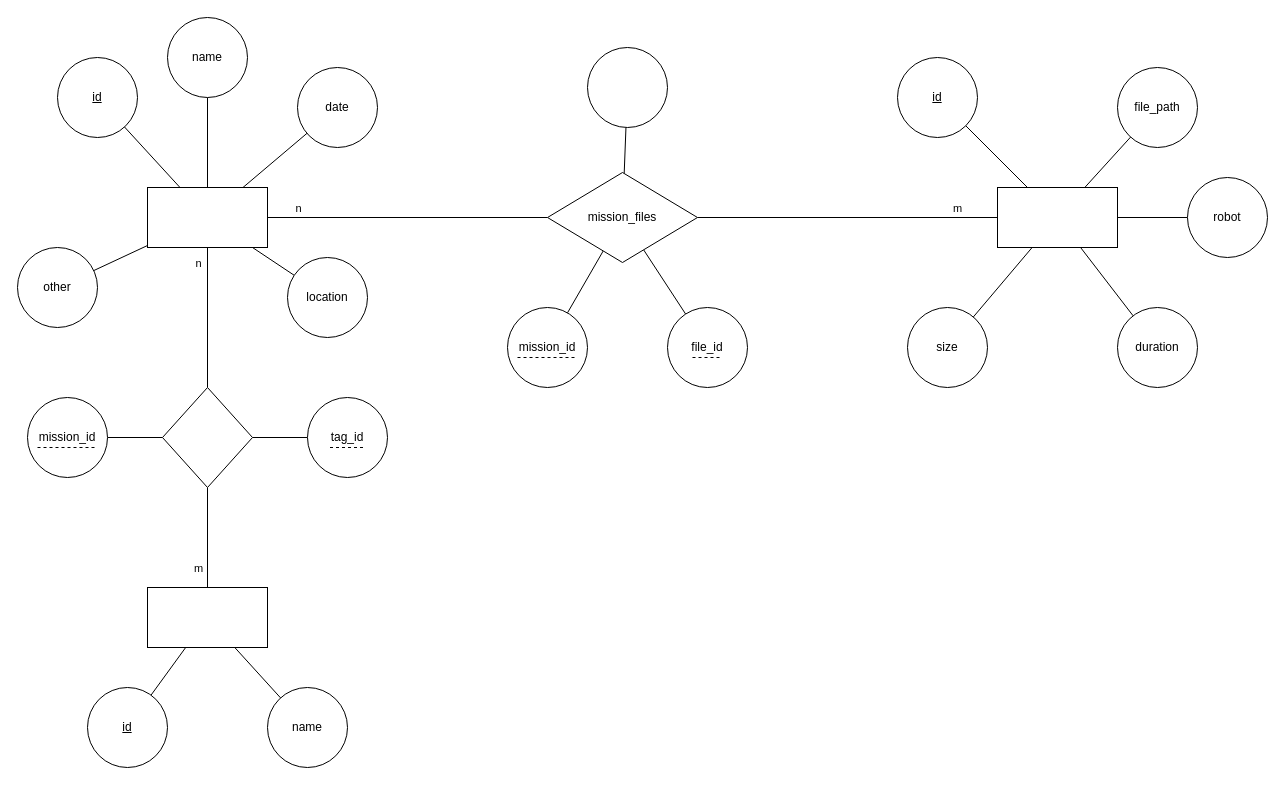
Image size: 1285x785. Some labels were removed from this diagram. Each missing label, with the centre of its shape:
"files" belongs at (x=1057, y=217).
"missions" belongs at (x=207, y=217).
"misson_tags" belongs at (x=207, y=437).
"tags" belongs at (x=207, y=617).
"type" belongs at (x=627, y=87).
